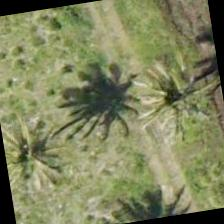Kelapa_Sawit: (133, 49, 223, 153), (0, 101, 86, 202)
